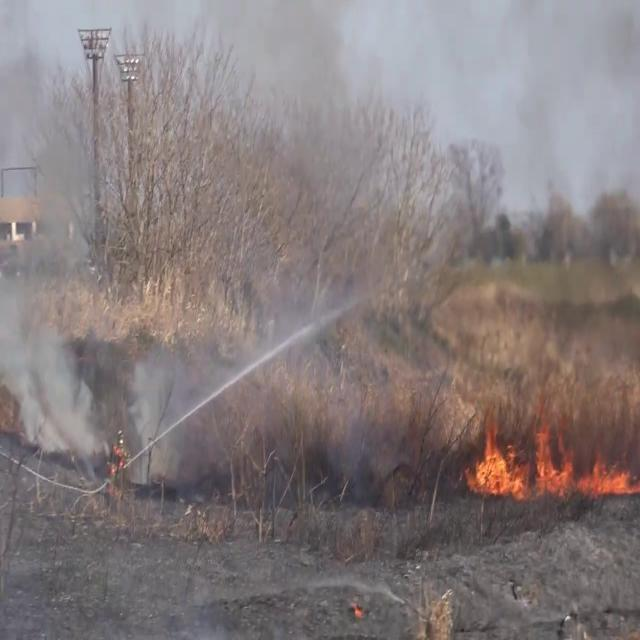Fire: (464, 414, 640, 503)
Smoke: (127, 182, 374, 504), (427, 0, 640, 300), (0, 20, 103, 469)
